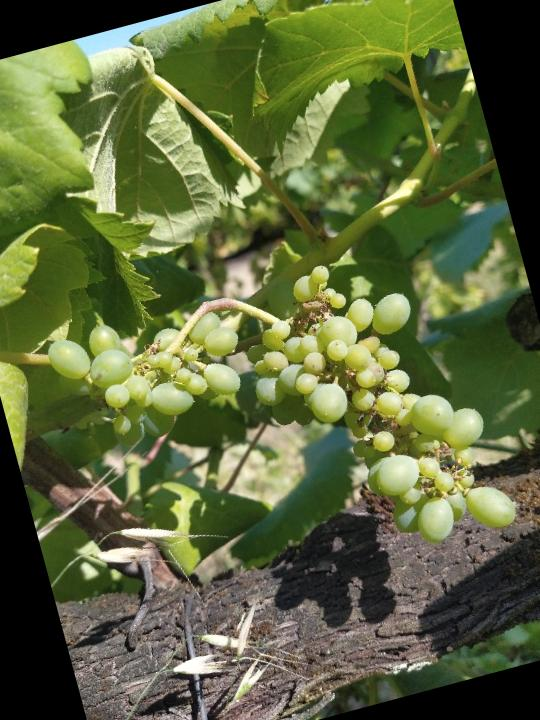grape: (36, 219, 529, 638)
